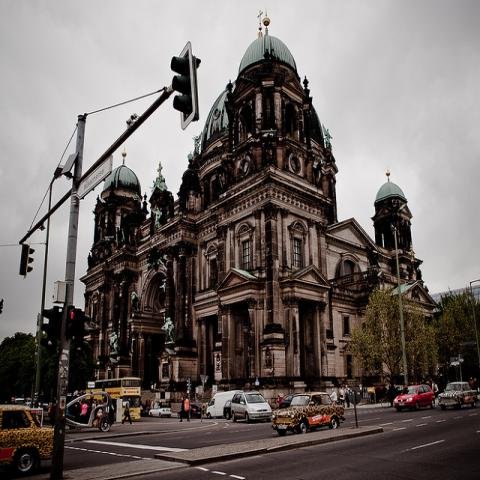bus: (86, 377, 141, 421)
car: (1, 406, 54, 478), (272, 392, 346, 437), (231, 390, 273, 424), (438, 382, 478, 411), (392, 384, 436, 410), (207, 390, 244, 420), (148, 400, 172, 418), (178, 404, 202, 419), (278, 394, 298, 410), (223, 400, 232, 420)
